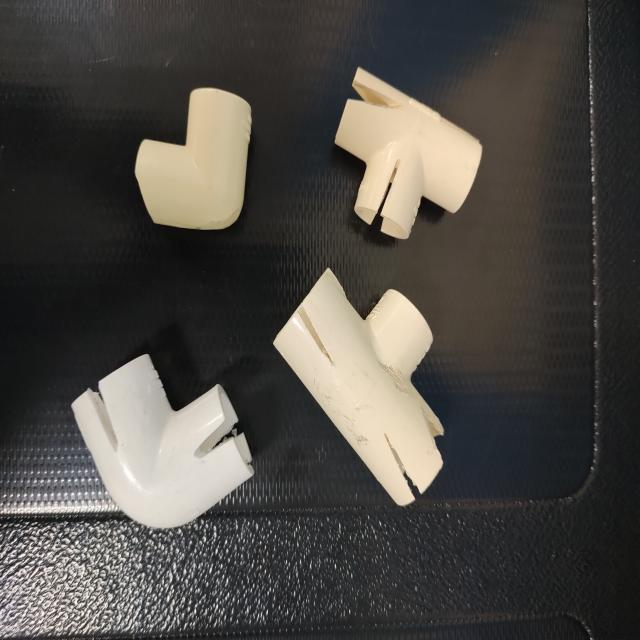Defective: (384, 435, 423, 504), (371, 160, 403, 231), (193, 419, 241, 465), (88, 389, 118, 452), (418, 395, 446, 459), (351, 81, 404, 110), (296, 311, 328, 359)
L Joint: (70, 354, 256, 533), (133, 88, 253, 234)
T Joint: (273, 271, 445, 509), (334, 67, 483, 240)
